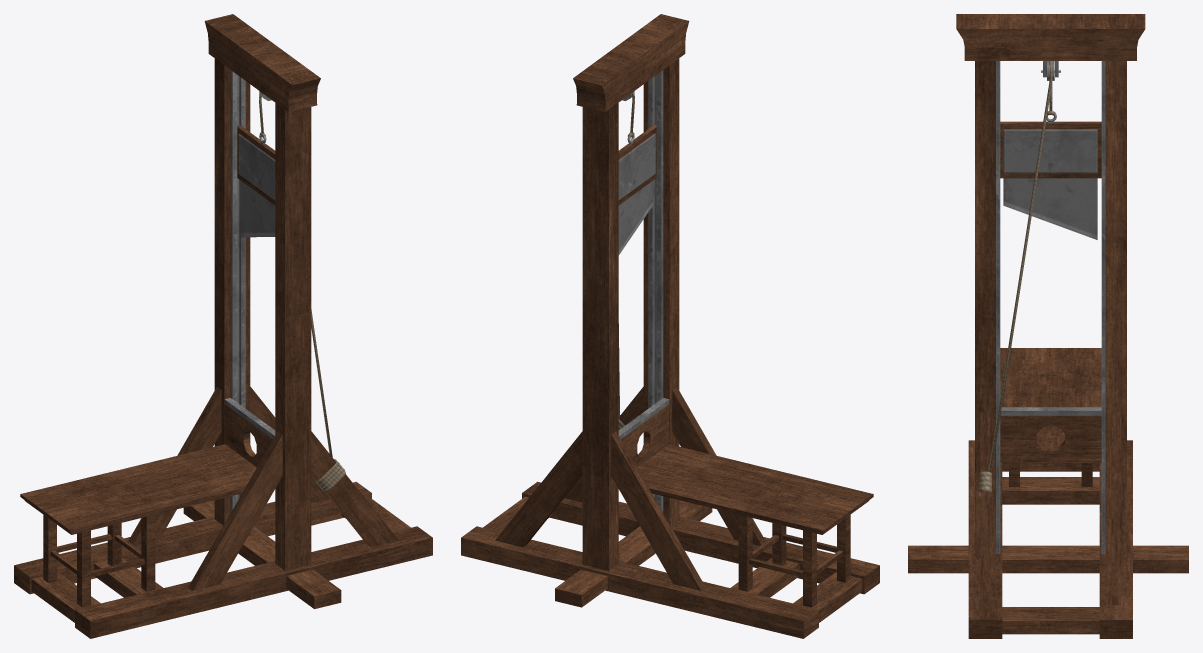
File: guillotine.fbx
The picture shows the model from 3 angles, left to right: view 1: azimuth 30°, elevation 25°; view 2: azimuth 150°, elevation 25°; view 3: azimuth 270°, elevation 25°; orthographic projection. The views are drawn at different scales.
Parts seen in each view (by area): view 1: Body, Blade, HeadBlock, Rope; view 2: Body, Blade, HeadBlock; view 3: Body, Blade, HeadBlock, Rope.
Part boxes in pixels (left/top/right/bottom): Body: left=14, top=14, right=432, bottom=638; Blade: left=237, top=125, right=275, bottom=237; HeadBlock: left=224, top=398, right=275, bottom=454; Rope: left=259, top=91, right=345, bottom=492; Body: left=461, top=14, right=879, bottom=638; Blade: left=618, top=125, right=656, bottom=255; HeadBlock: left=618, top=398, right=669, bottom=454; Body: left=908, top=14, right=1188, bottom=638; Blade: left=1000, top=113, right=1101, bottom=239; HeadBlock: left=1000, top=407, right=1101, bottom=438; Rope: left=979, top=61, right=1055, bottom=496.
Size of the model in its own units: 284 by 396 by 184.
1 material, 1 textured.
